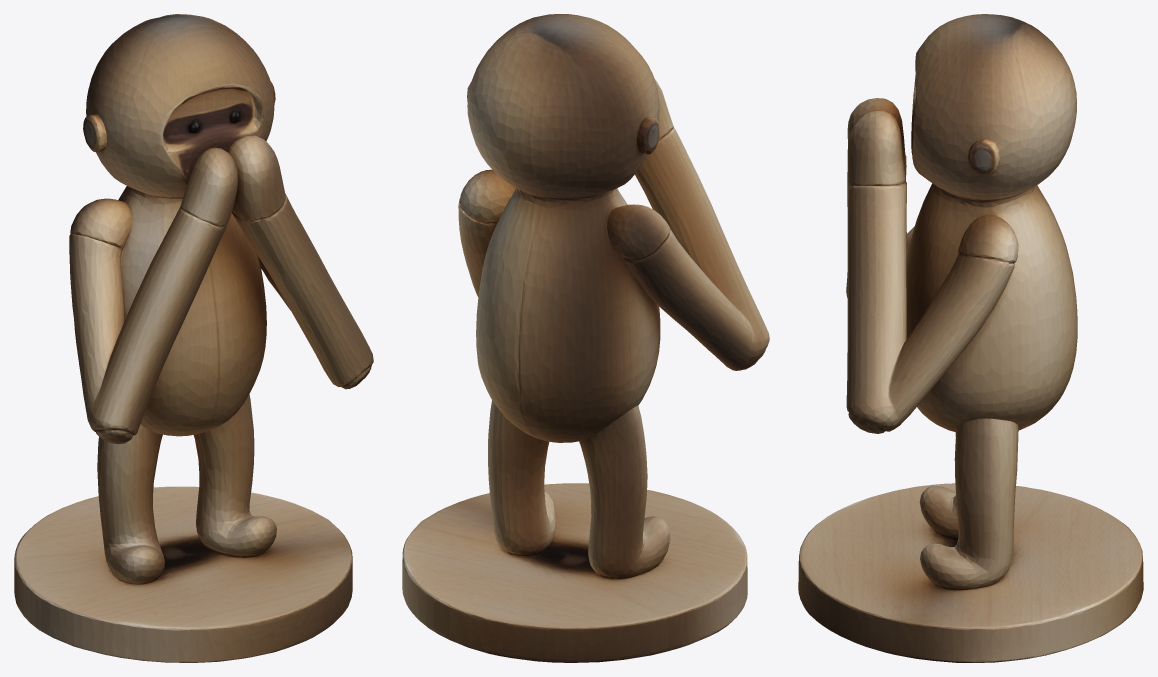
Rendered from mesh-frame-4-peak-20260523-144536-trellis-20260523-145559.glb.
The picture shows the model from 3 angles, left to right: view 1: azimuth 30°, elevation 25°; view 2: azimuth 150°, elevation 25°; view 3: azimuth 270°, elevation 25°; orthographic projection.
Parts seen in each view (by area): view 1: world; view 2: world; view 3: world.
Part boxes in pixels (<box>): world: <box>14,14,373,662</box>; world: <box>402,14,769,662</box>; world: <box>798,14,1143,662</box>.
Bounding box in the file's own units: 0.5519 × 0.9996 × 0.5497.
Materials: 1 (1 with a texture image).
